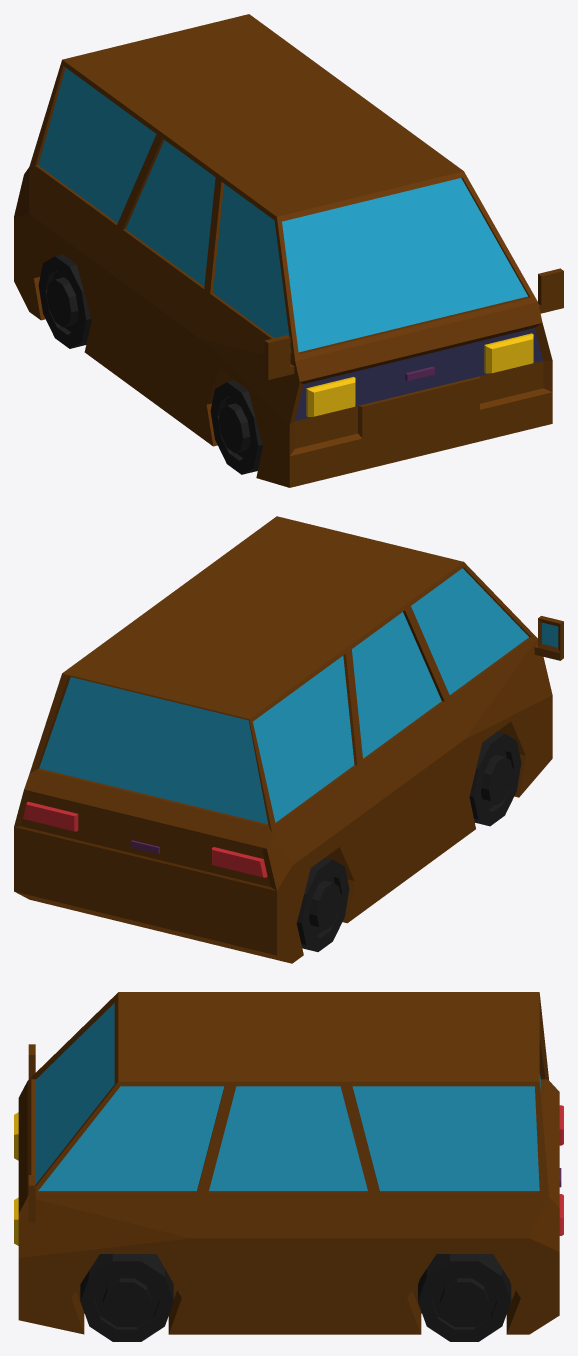
File: van.glb
3 renders of one model, top to bottom at view 1: azimuth 30°, elevation 25°; view 2: azimuth 150°, elevation 25°; view 3: azimuth 270°, elevation 25°, orthographic.
Visible parts, largest first — view 1: van; view 2: van; view 3: van.
Part boxes in pixels (<box>): van: <box>14,14,563,487</box>; van: <box>14,516,563,963</box>; van: <box>14,992,563,1341</box>.
Size of the model in its own units: 4.34 by 3.46 by 7.12.
1 material, 1 textured.
